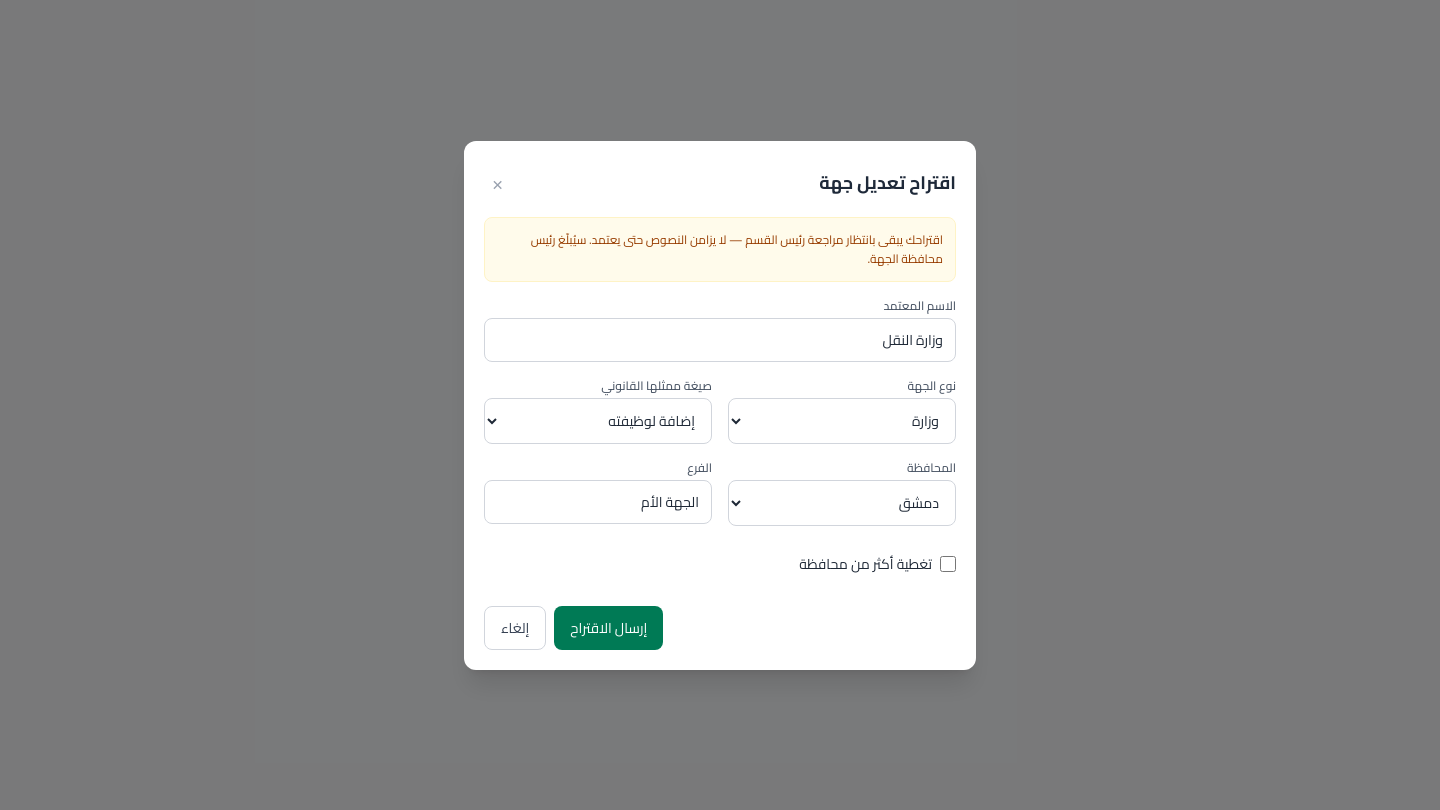
Test: ProposeEditModal › يرفض الإرسال دون اسم جهة
The width and height of the screenshot is (1440, 810).
Clear the field labelled "الاسم المعتمد" at (720, 340), box [484,318,956,362]
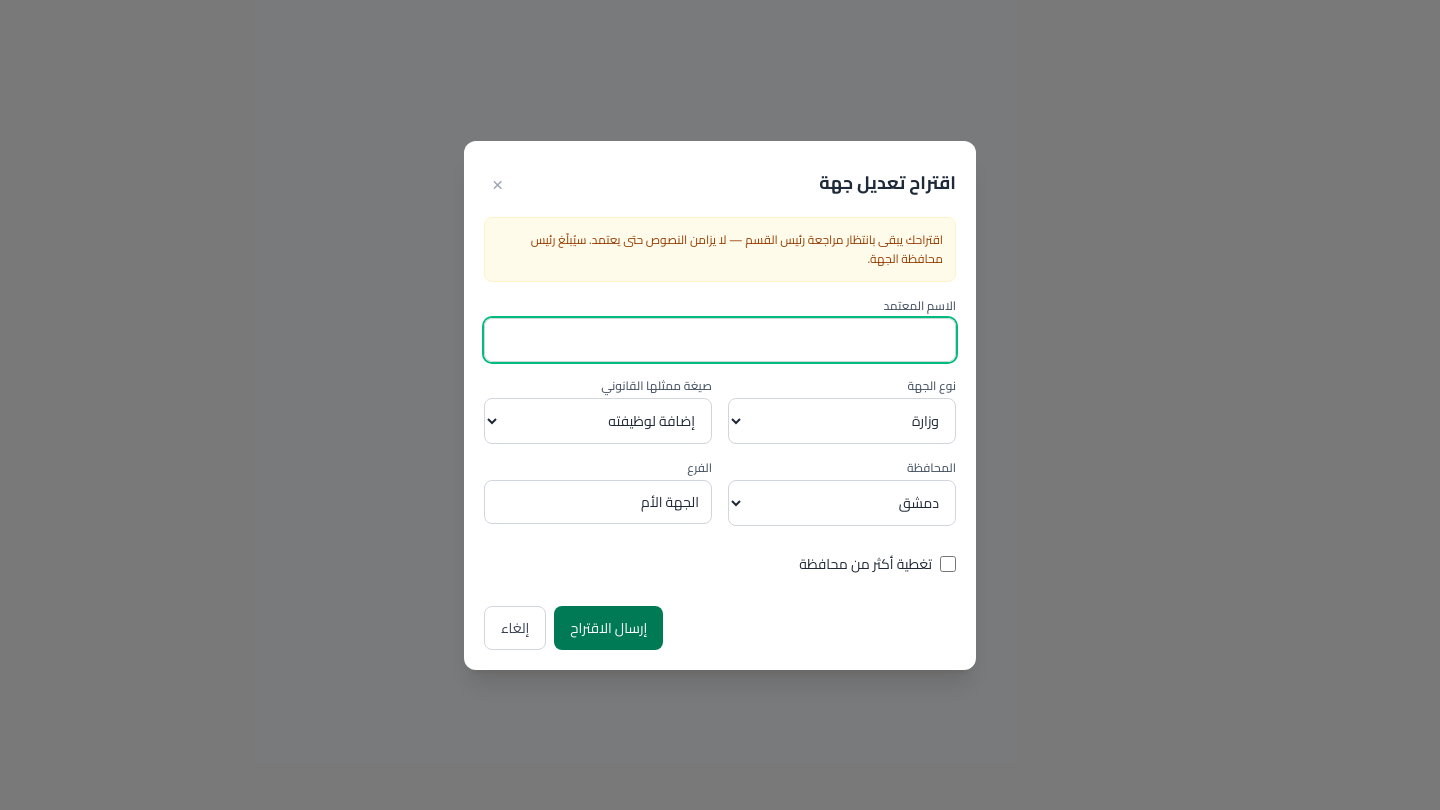
Click the button "إرسال الاقتراح" at (609, 628), box [554,606,663,650]
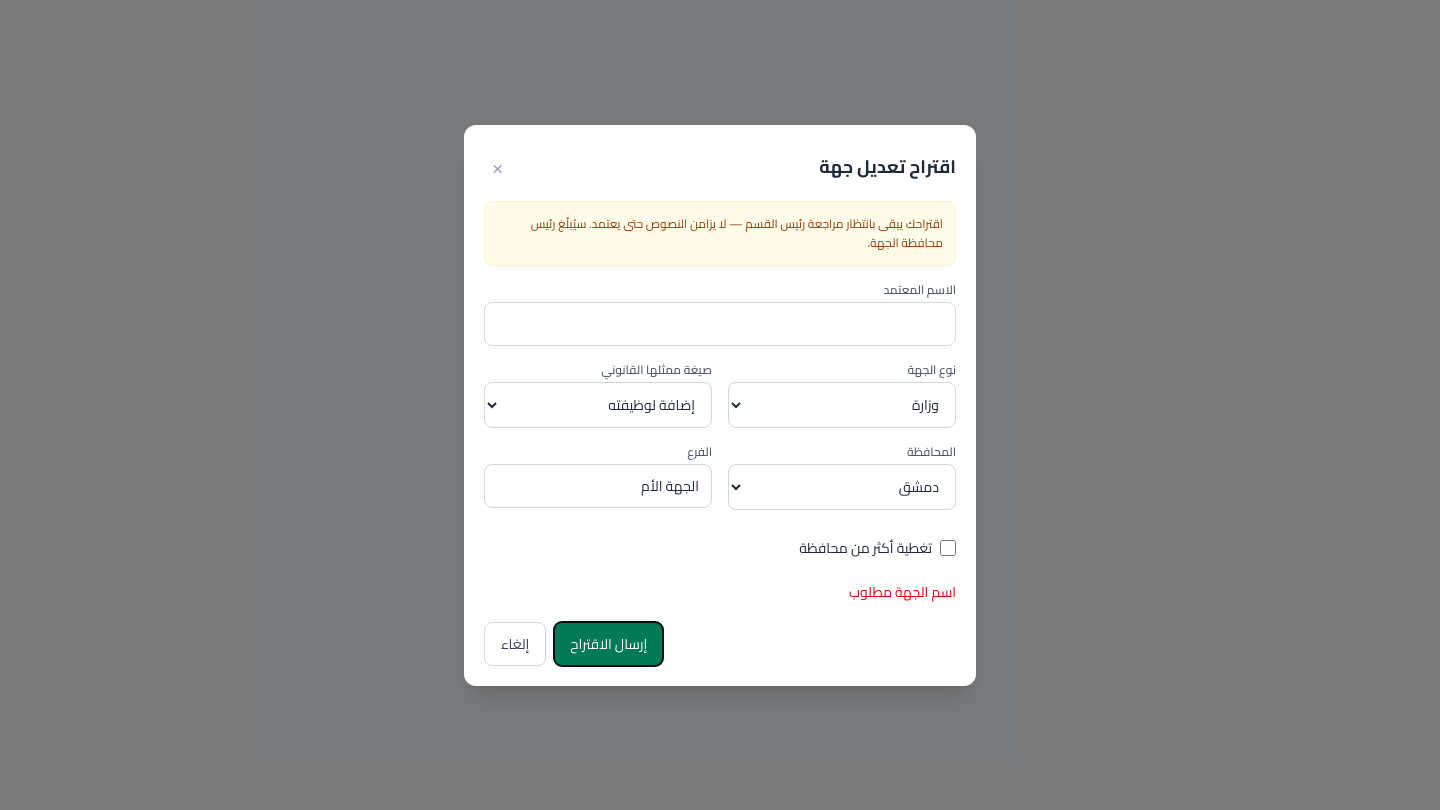
expect the text "اسم الجهة مطلوب" is shown: met, box [849,578,956,604]
